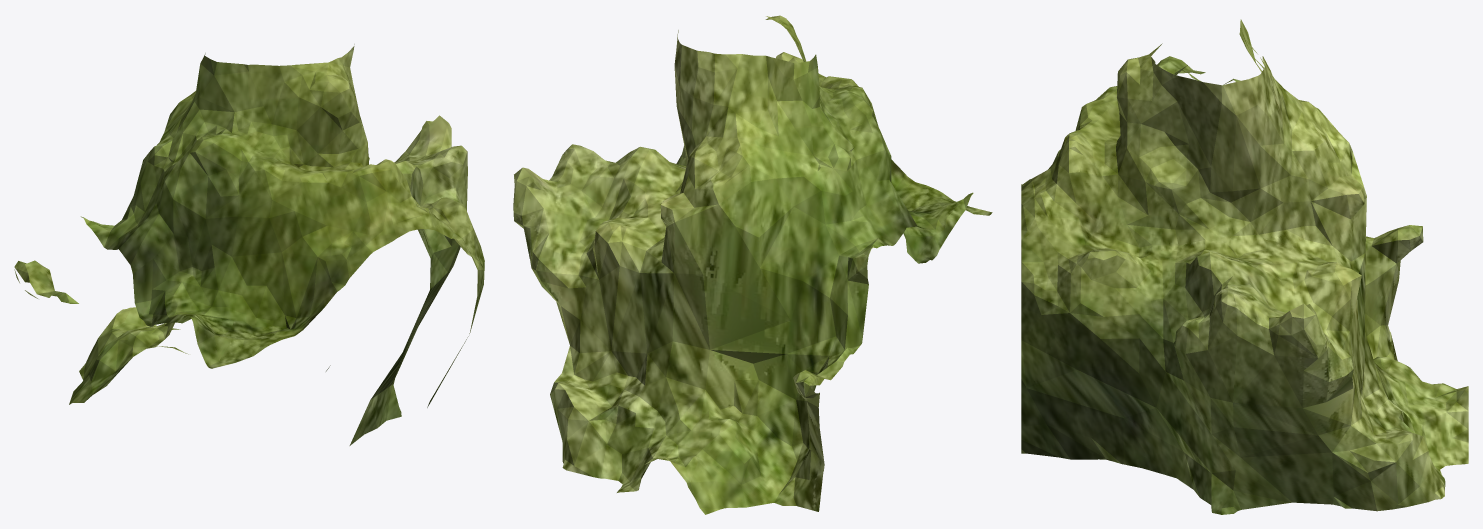
The picture shows the model from 3 angles, left to right: view 1: azimuth 30°, elevation 25°; view 2: azimuth 150°, elevation 25°; view 3: azimuth 270°, elevation 25°; orthographic projection. The views are drawn at different scales.
Size of the model in its own units: 2.9 by 2.95 by 2.95.
5 materials, 5 textured.
